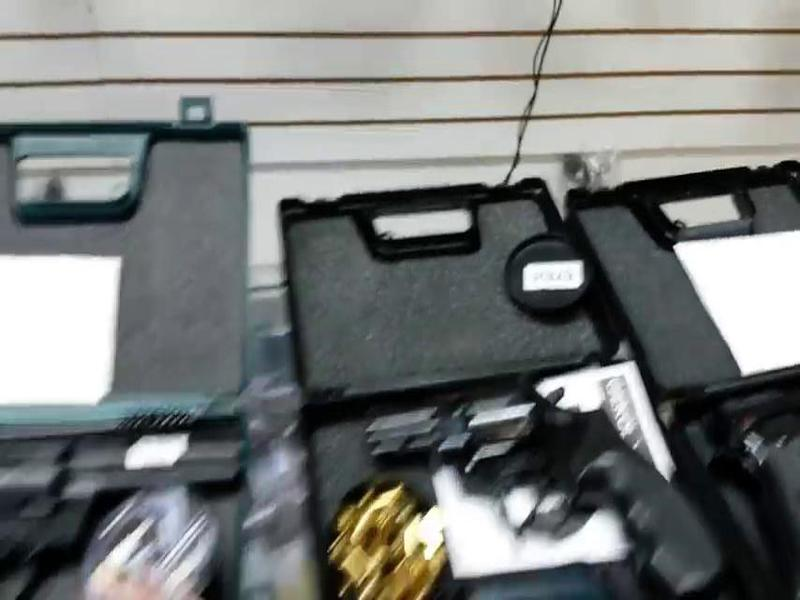Revolver: (357, 377, 725, 587)
